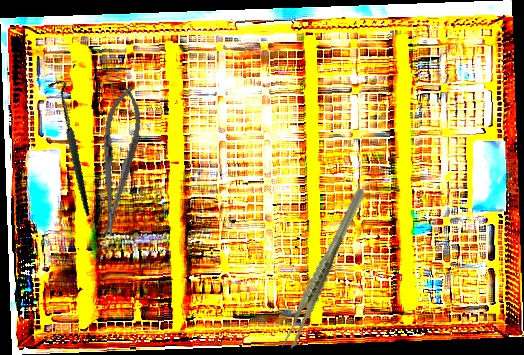Hook Surgical: (16, 77, 123, 217)
Needle Holder: (89, 83, 147, 239)
Tissue Forceps: (255, 186, 394, 353)
